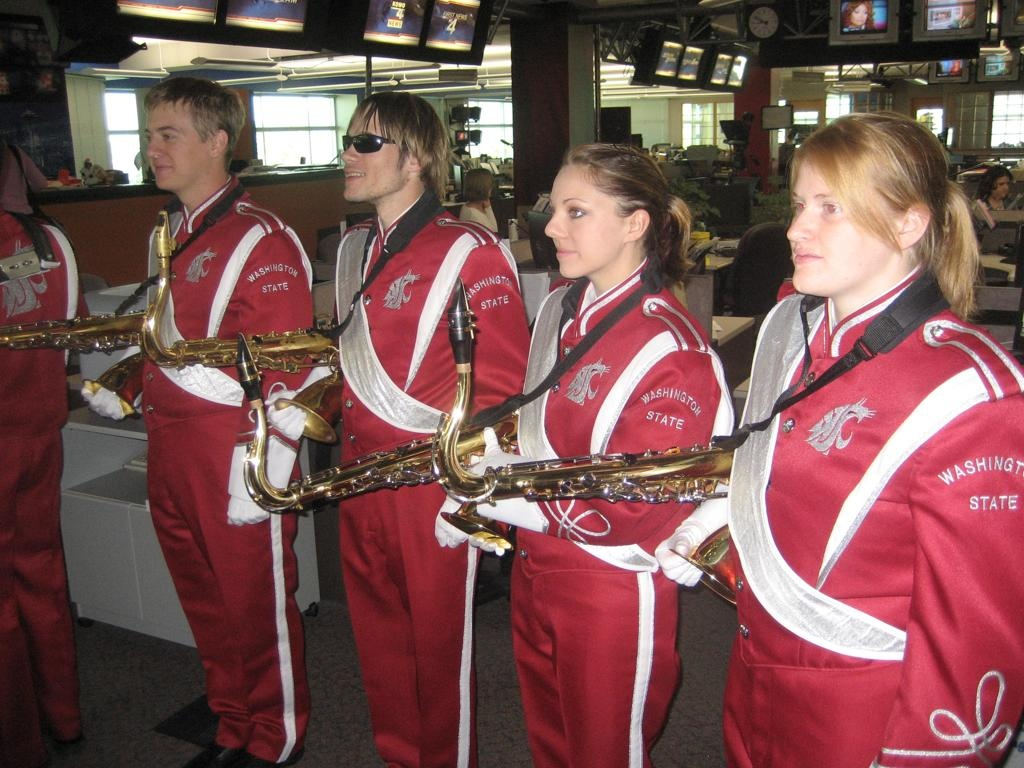human_face: (788, 162, 898, 292), (544, 170, 624, 276), (144, 100, 210, 188), (338, 116, 406, 200), (991, 176, 1009, 196), (850, 2, 866, 24), (954, 60, 958, 66)
